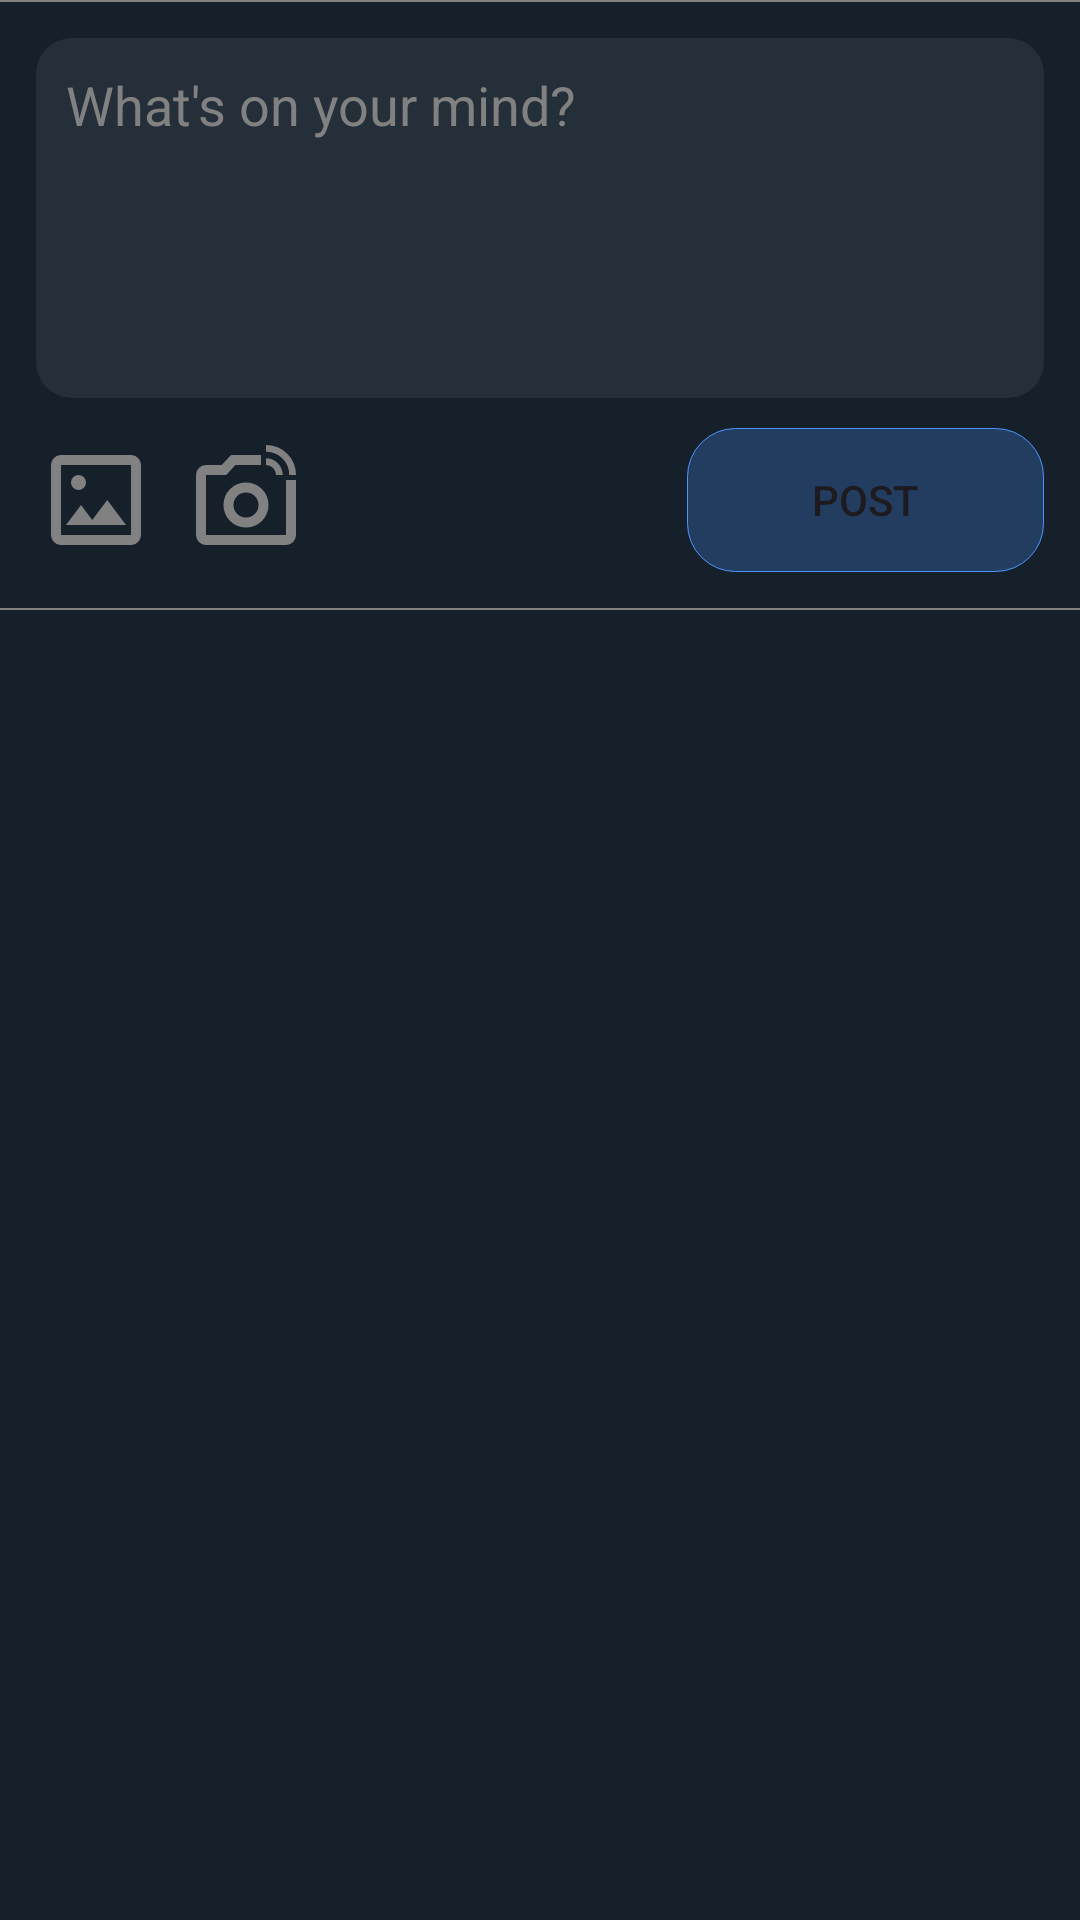

Point at icon controls on the screen. Image size 1080w x 1920h, points as (x,y).
camerafunc: (246,495)
imagepicker: (96,500)
